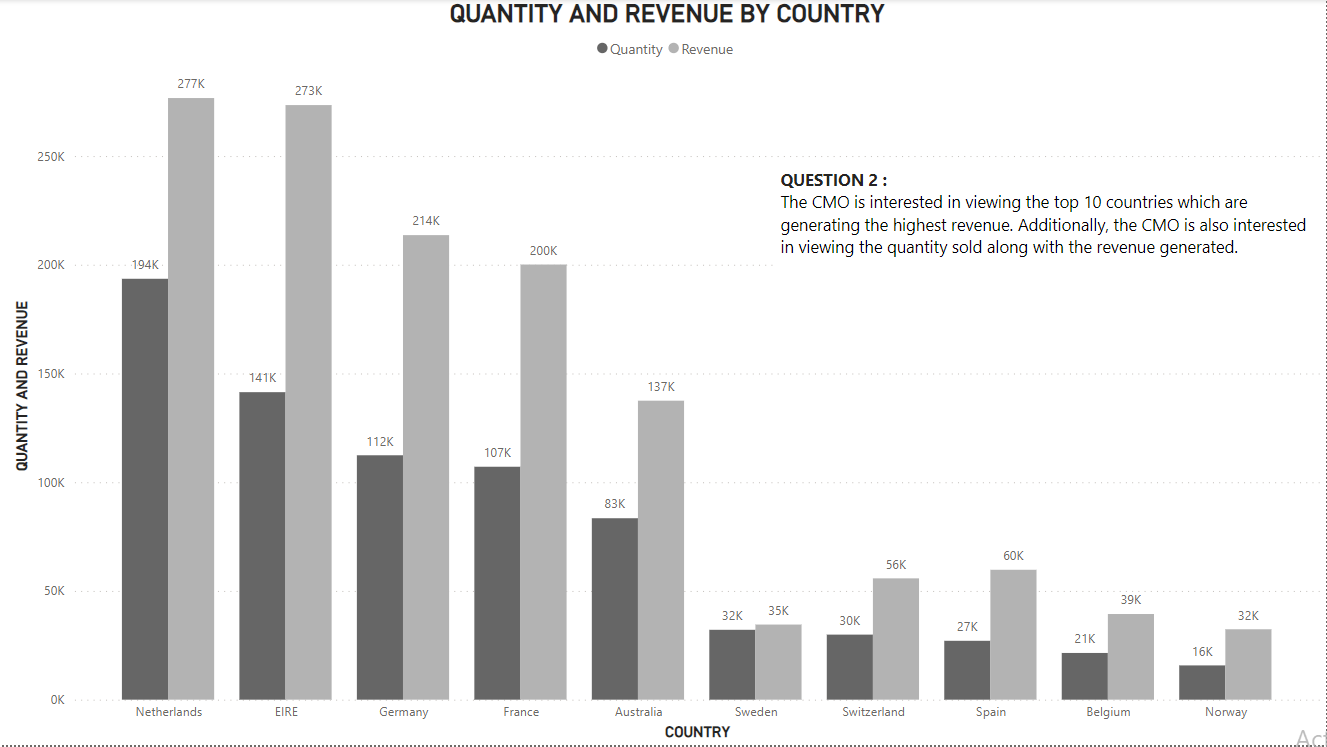

What the dashboard file says about the page in this screenshot:
{"tool":"powerbi","page":{"name":"Qn 2","canvas":[1280,720],"ordinal":1},"visuals":[{"type":"clusteredColumnChart","title":"QUANTITY AND REVENUE BY COUNTRY","fields":{"Y":["Sum(Online Retail.Quantity)","Sum(Online Retail.Revenue)"],"Category":["Online Retail.Country"]},"box":[9.7,0,1270.3,719.8],"z":0},{"type":"textbox","box":[749.2,157.8,531,101.5],"z":1}]}

Visuals, with their boxes in screenshot pixels (x1, y1, x2, y2), scaled from the page's 1280x720 canvas onto the 1327x747 screenshot:
"QUANTITY AND REVENUE BY COUNTRY" clusteredColumnChart: 10, 0, 1326, 746
textbox: 777, 164, 1326, 269
